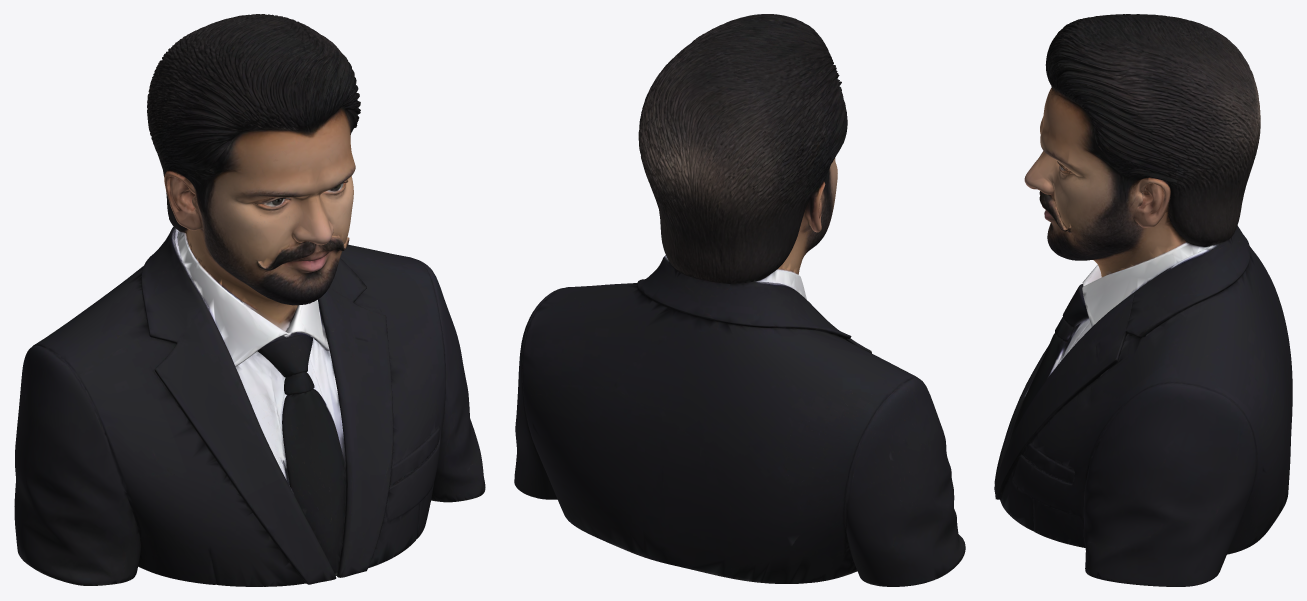
File: chetan-kumar.glb
3 views of the same model, side by side, from view 1: azimuth 30°, elevation 25°; view 2: azimuth 150°, elevation 25°; view 3: azimuth 270°, elevation 25° (orthographic). The views are drawn at different scales.
Parts seen in each view (by area): view 1: node_0; view 2: node_0; view 3: node_0.
Part boxes in pixels (x1,y1,x2,y2): node_0: (14, 14, 485, 586); node_0: (514, 14, 965, 586); node_0: (994, 14, 1292, 586).
Size of the model in its own units: 0.8139 by 0.8694 by 0.5089.
Materials: 1 (1 with a texture image).
